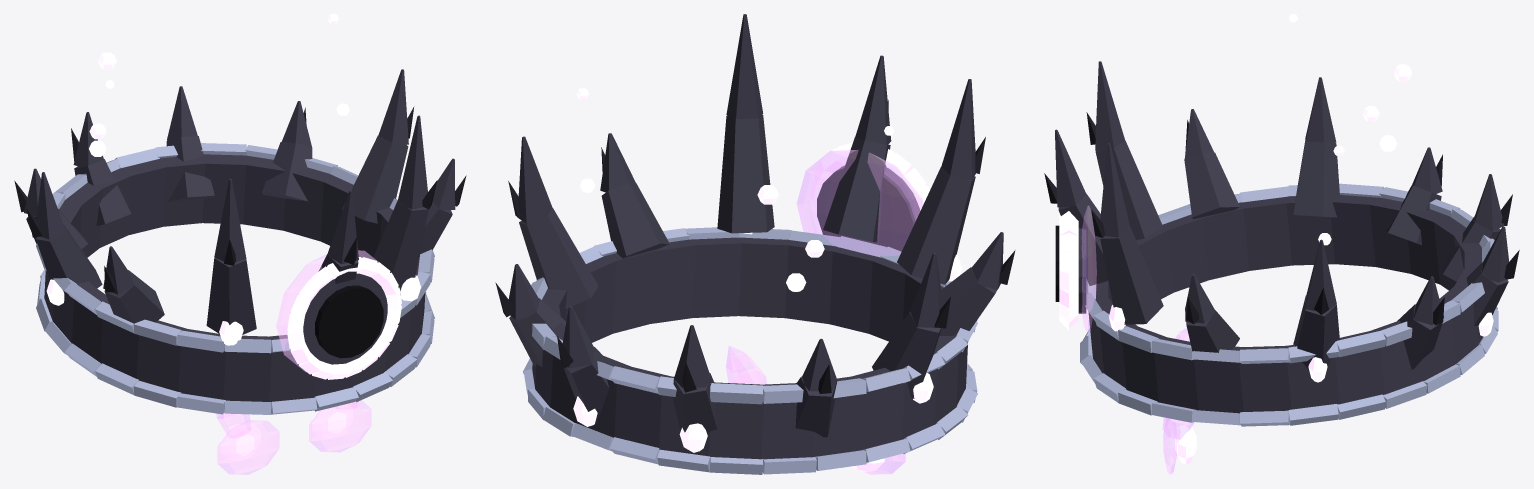
Rendered from the_uninvited_crown.glb.
3 renders of one model, left to right at view 1: azimuth 30°, elevation 25°; view 2: azimuth 150°, elevation 25°; view 3: azimuth 270°, elevation 25°, orthographic. The views are drawn at different scales.
Parts seen in each view (by area): view 1: the_uninvited_crown; view 2: the_uninvited_crown; view 3: the_uninvited_crown.
Boxes of the visible parts, <box> form: the_uninvited_crown: <box>14,14,466,474</box>; the_uninvited_crown: <box>495,14,1015,474</box>; the_uninvited_crown: <box>1044,14,1519,474</box>.
Bounding box in the file's own units: 1.18 × 1.07 × 1.24.
